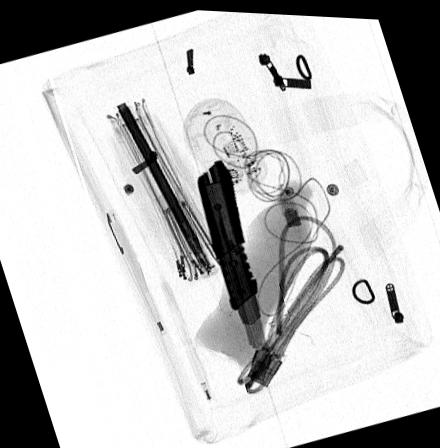Knife: (196, 157, 268, 350)
